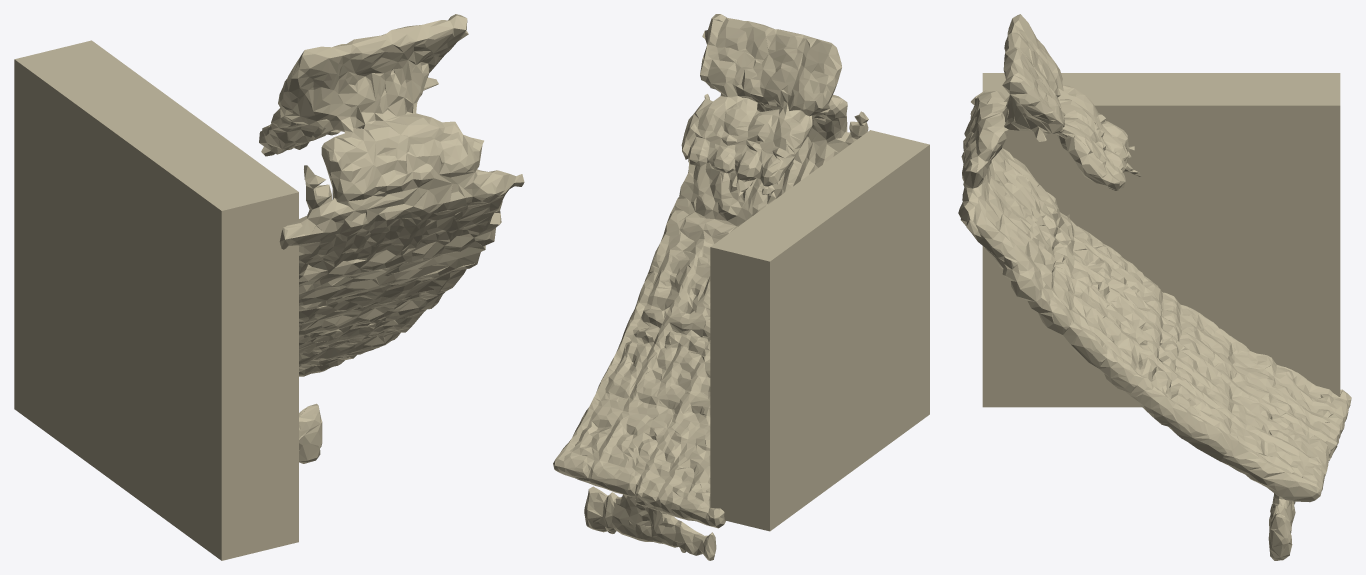
The model's file is improved.glb.
The picture shows the model from 3 angles, left to right: view 1: azimuth 30°, elevation 25°; view 2: azimuth 150°, elevation 25°; view 3: azimuth 270°, elevation 25°; orthographic projection. The views are drawn at different scales.
Parts seen in each view (by area): view 1: world; view 2: world; view 3: world.
Boxes of the visible parts, x1=… form: world: x1=14, y1=14, x2=524, y2=560; world: x1=553, y1=14, x2=929, y2=560; world: x1=958, y1=14, x2=1351, y2=560.
Bounding box in the file's own units: 1.32 × 2.37 × 1.75.
